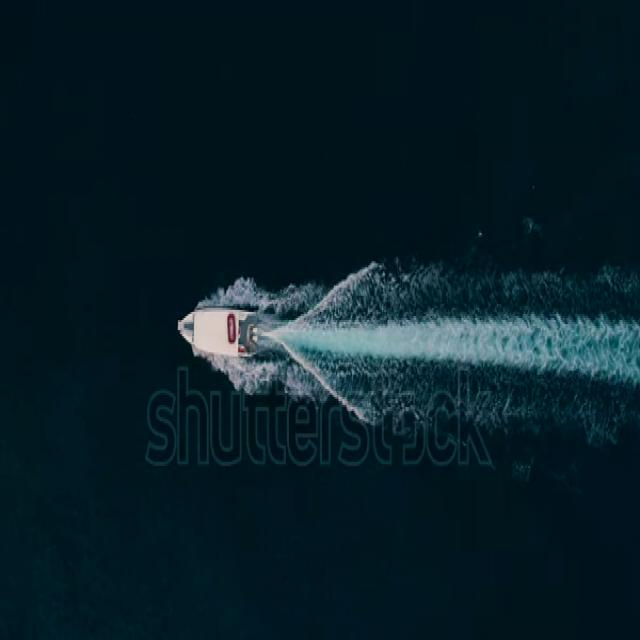ship: (176, 303, 266, 361)
